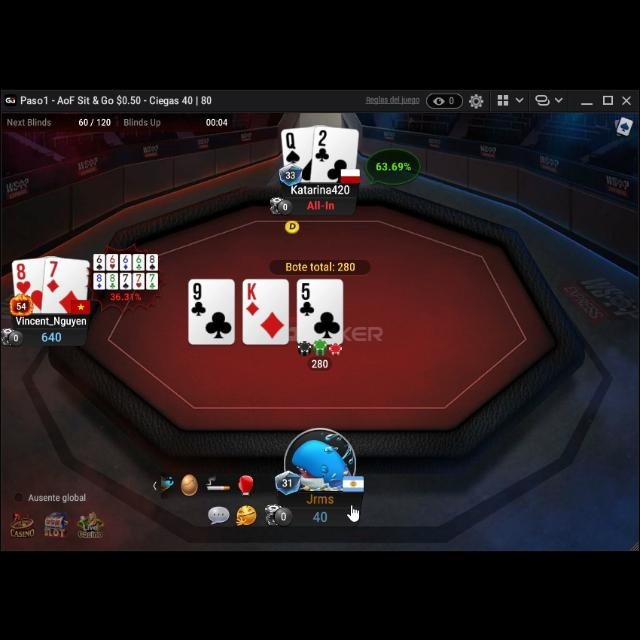2c: (314, 126, 331, 162)
5c: (298, 278, 316, 316)
7d: (44, 254, 61, 290)
8h: (15, 259, 32, 293)
9c: (190, 278, 208, 316)
Kd: (246, 278, 260, 316)
Qs: (284, 128, 302, 164)
all_in_symbol: (306, 197, 334, 210)
bet_text: (310, 356, 330, 368)
dealer: (284, 216, 300, 232)
pot_text: (284, 260, 356, 270)
stack_text: (41, 326, 63, 340), (312, 508, 328, 522)
